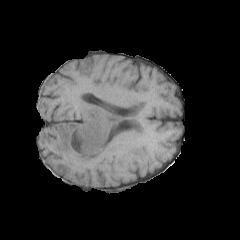glioma: (53, 96, 127, 163)
